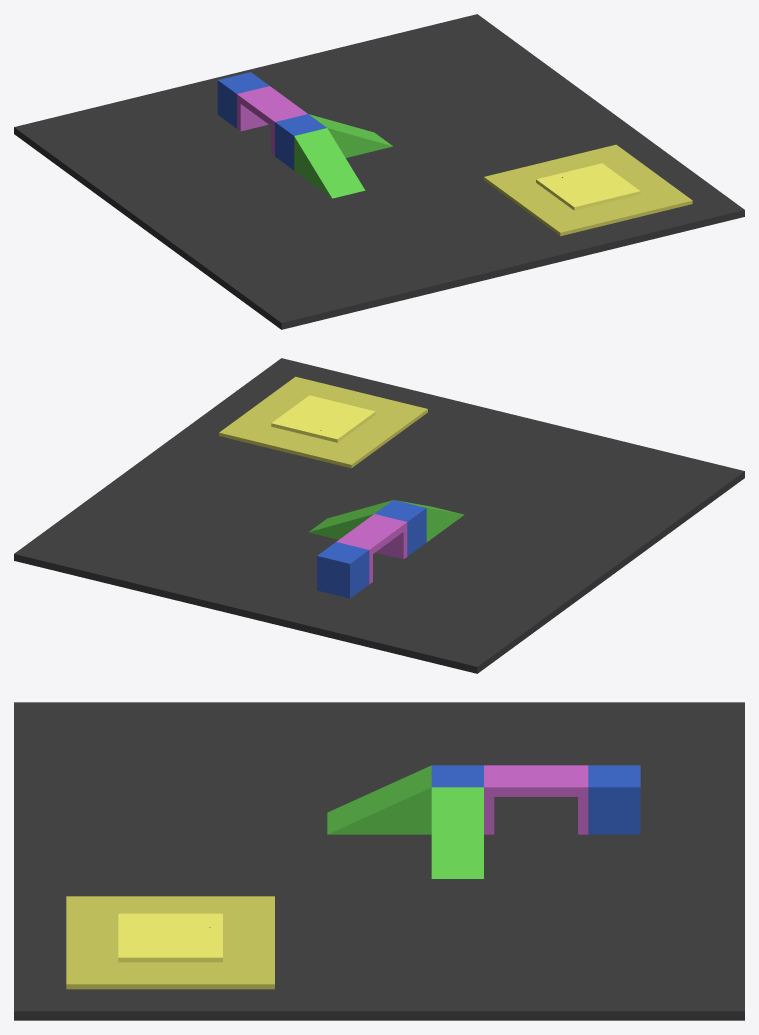
File: Floor.fbx
3 views of the same model, one above another, from view 1: azimuth 30°, elevation 25°; view 2: azimuth 150°, elevation 25°; view 3: azimuth 270°, elevation 25° (orthographic). The views are drawn at different scales.
Visible parts, largest first — view 1: Cube.008; view 2: Cube.008; view 3: Cube.008.
Boxes of the visible parts, x1=… form: Cube.008: x1=14, y1=14, x2=744, y2=329; Cube.008: x1=14, y1=358, x2=744, y2=673; Cube.008: x1=14, y1=702, x2=744, y2=1020.
Bounding box in the file's own units: 14000 × 1200 × 14000.
